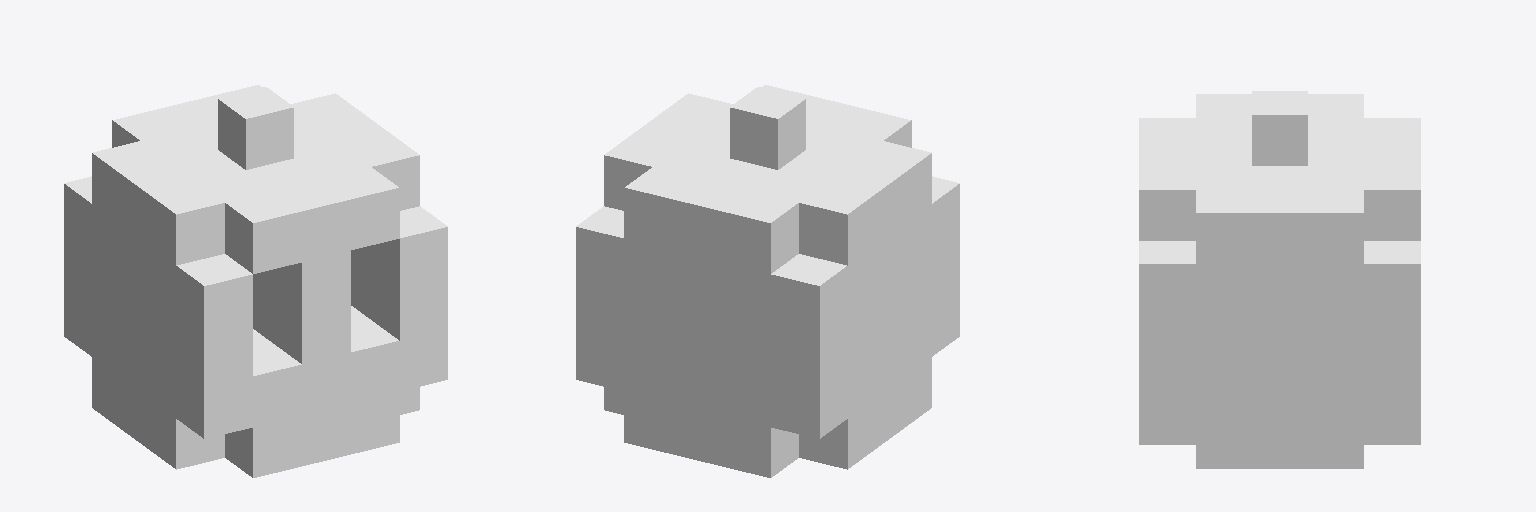
Rendered from Pumpkin_empty.obj.
3 renders of one model, left to right at view 1: azimuth 30°, elevation 25°; view 2: azimuth 150°, elevation 25°; view 3: azimuth 270°, elevation 25°, orthographic.
Visible parts, largest first — view 1: object 1; view 2: object 1; view 3: object 1.
Boxes of the visible parts, x1=… form: object 1: x1=64, y1=85, x2=447, y2=477; object 1: x1=576, y1=85, x2=959, y2=477; object 1: x1=1139, y1=91, x2=1420, y2=468.
Size of the model in its own units: 0.5 by 0.6 by 0.5.